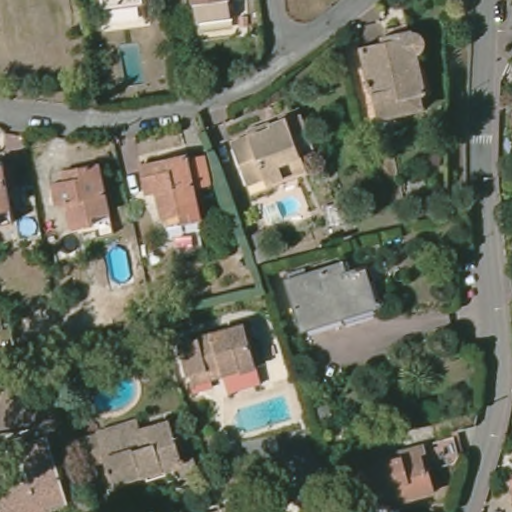pool: (84, 371, 142, 417), (233, 393, 290, 435), (115, 38, 150, 89), (103, 240, 136, 290), (262, 195, 307, 222), (13, 213, 44, 242)
